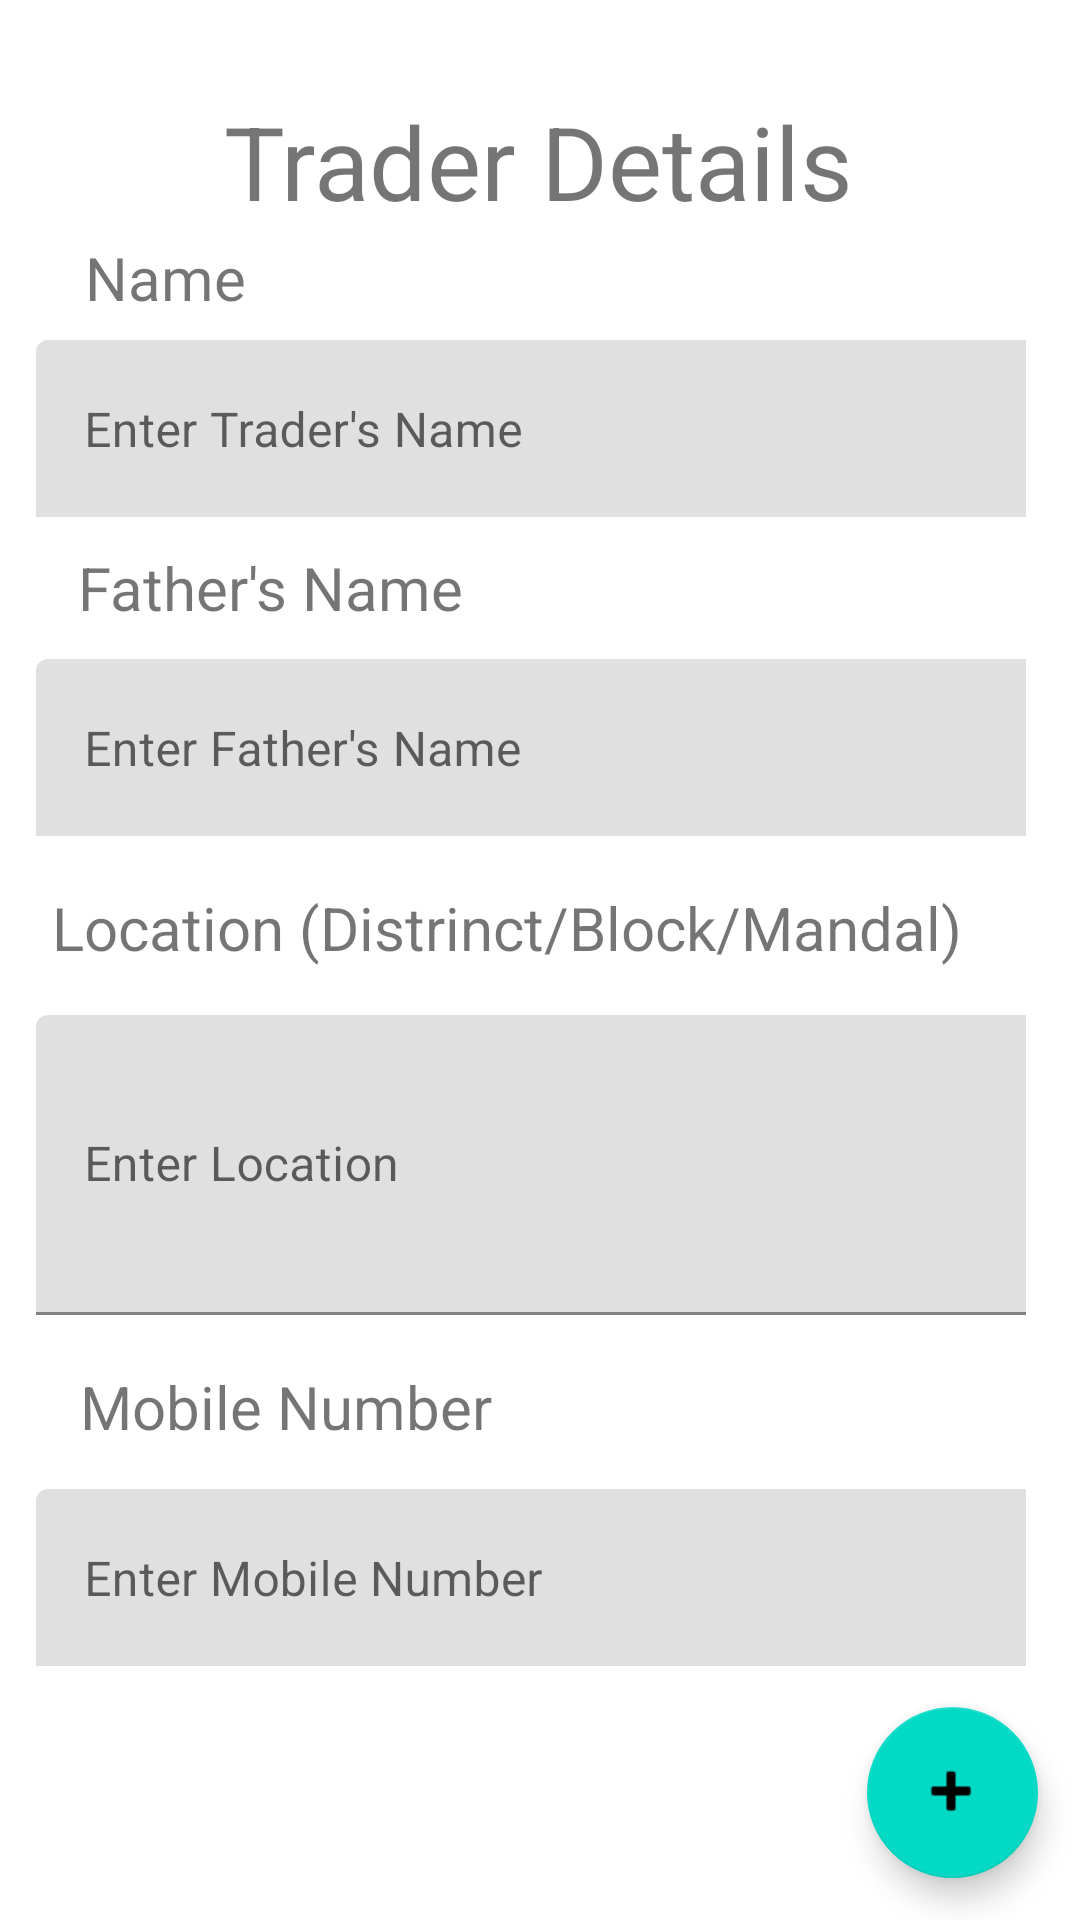

Icon click points for this 1080 × 1920 phone screenshot, format point (x, y):
add: point (952, 1792)
